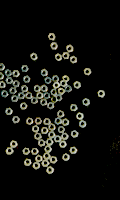nut: (46, 166, 54, 175), (41, 160, 50, 168), (69, 147, 78, 155), (38, 139, 46, 148), (57, 126, 66, 134), (76, 112, 84, 121), (47, 33, 56, 41), (33, 162, 41, 170), (24, 159, 32, 167), (50, 156, 58, 164), (35, 155, 43, 163), (31, 148, 39, 156), (6, 148, 14, 156), (10, 141, 18, 149), (22, 148, 30, 156), (59, 141, 67, 149), (34, 133, 42, 141), (61, 133, 69, 141), (71, 130, 79, 138), (79, 120, 87, 128), (48, 123, 56, 131), (41, 127, 49, 135), (32, 125, 40, 133), (62, 119, 70, 127), (43, 118, 51, 126), (26, 118, 34, 126), (57, 110, 65, 118), (70, 104, 78, 112), (98, 90, 106, 98), (12, 116, 20, 124), (5, 108, 13, 116), (47, 102, 55, 110), (40, 99, 48, 107), (43, 92, 51, 100), (58, 88, 66, 96), (64, 85, 72, 93), (74, 81, 82, 89), (84, 68, 92, 76), (1, 90, 9, 98), (11, 95, 19, 103), (9, 87, 17, 95), (21, 85, 29, 93), (5, 77, 13, 85), (12, 80, 20, 88), (4, 69, 12, 77), (12, 70, 20, 78), (21, 65, 29, 73), (60, 80, 68, 88), (44, 77, 52, 85), (40, 69, 48, 77), (30, 53, 38, 61), (62, 52, 70, 60), (70, 56, 78, 64), (66, 45, 74, 53), (50, 42, 58, 50), (63, 153, 70, 162), (55, 117, 62, 126), (34, 118, 43, 125), (83, 98, 90, 107), (52, 82, 61, 89), (55, 53, 62, 62), (43, 153, 51, 160), (44, 146, 52, 153), (46, 139, 54, 146), (54, 136, 62, 143), (48, 132, 56, 139), (20, 103, 28, 110), (51, 96, 58, 104), (56, 94, 63, 102), (36, 92, 43, 100), (31, 97, 38, 105), (50, 89, 58, 96), (25, 92, 32, 100), (17, 93, 25, 100), (34, 85, 41, 93), (41, 85, 48, 93), (23, 76, 31, 83), (62, 76, 70, 83), (52, 76, 60, 83), (0, 81, 6, 89), (0, 73, 5, 81), (0, 64, 5, 71)
